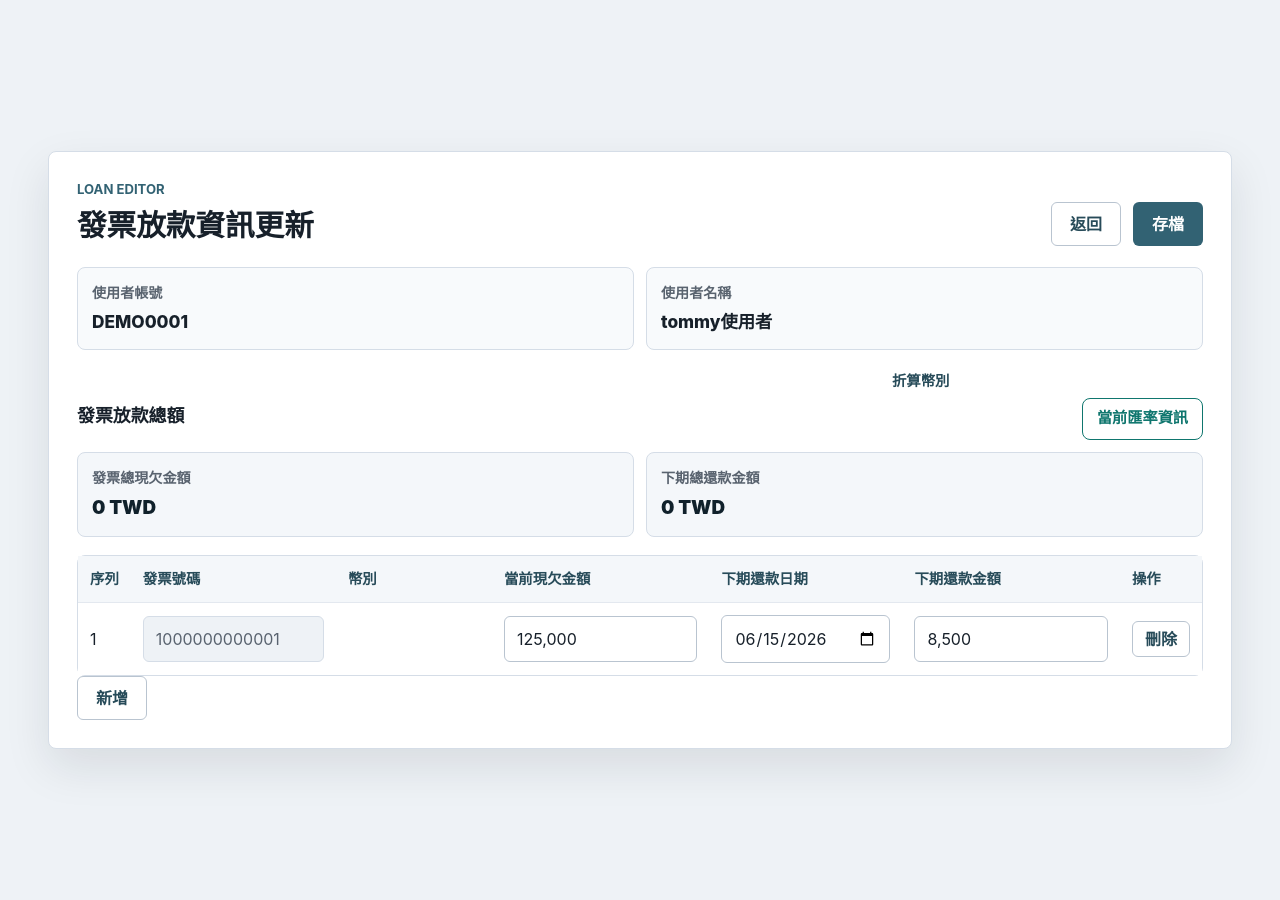
UpdateLoansView › 既有發票號碼不可編輯，新增發票號碼可輸入
The width and height of the screenshot is (1280, 900).
Expected: the field named "發票號碼" is disabled, [143, 616, 324, 662]
Click the button "新增" at {"x": 112, "y": 698}, box [77, 676, 147, 720]
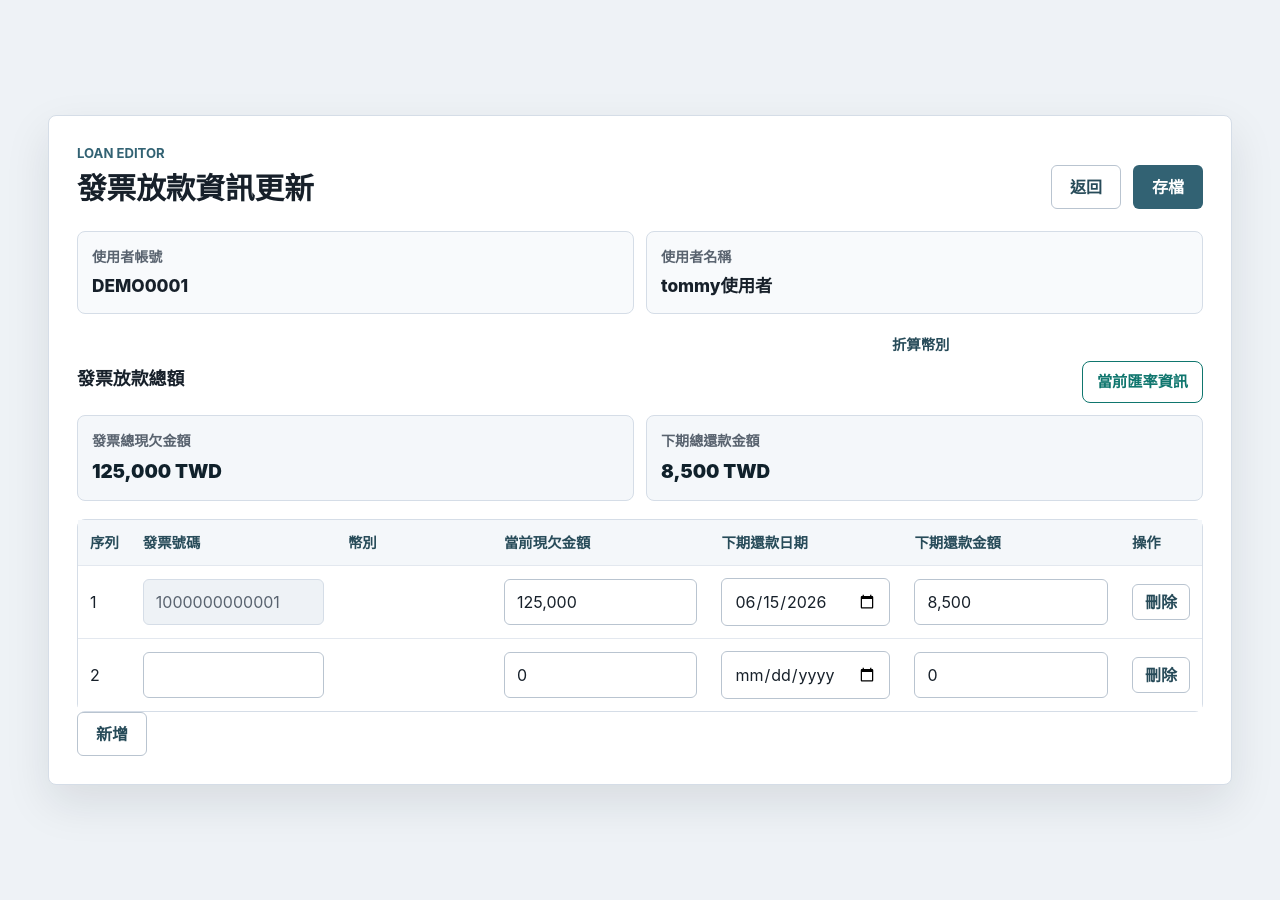
Expected: the 1st field named "發票號碼" is disabled, [143, 579, 324, 625]
Now the 2nd field named "發票號碼" is enabled, box [143, 652, 324, 698]
